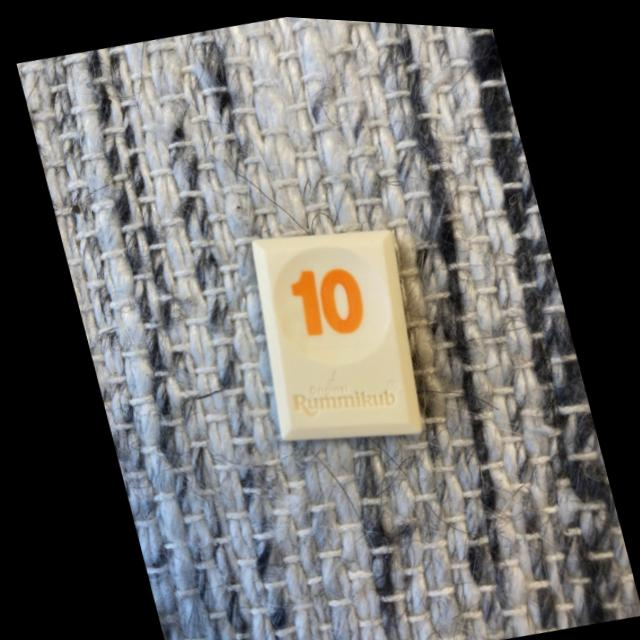orange_10: (250, 225, 420, 437)
